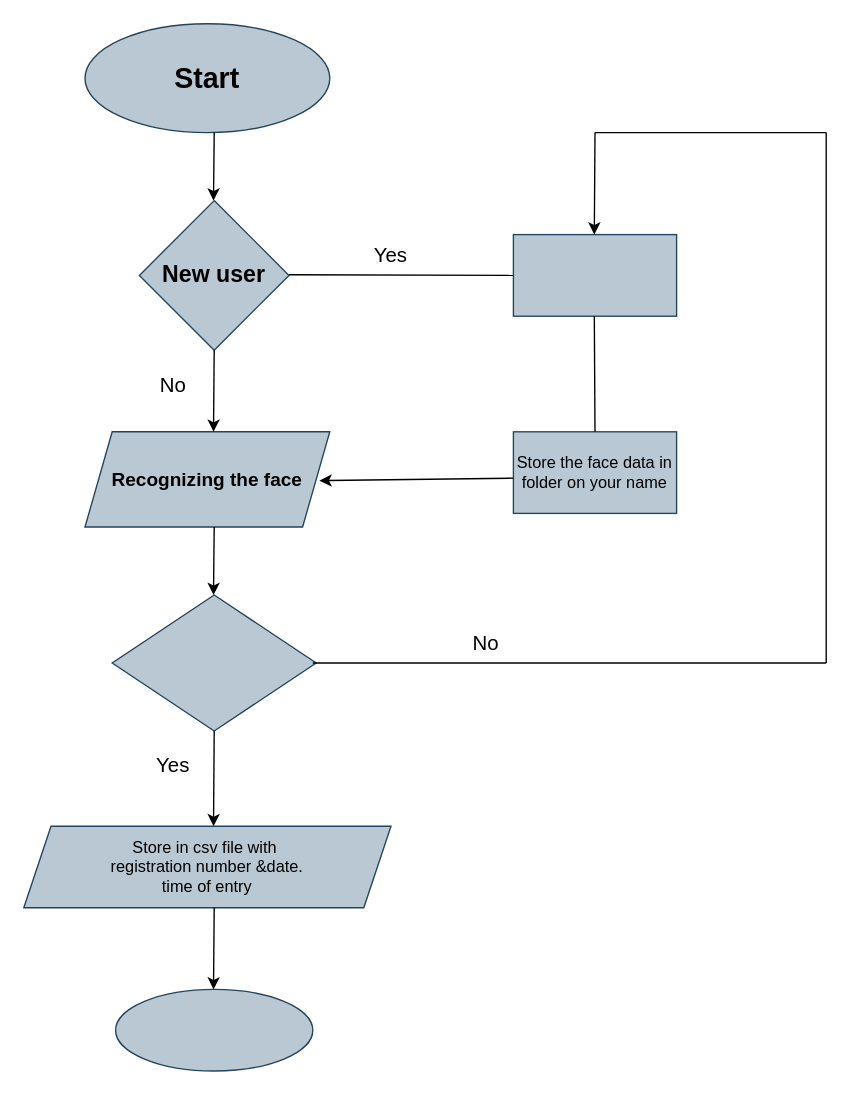
Some shapes in this 851 by 1095 pixel diagram are drawn without their labels. Here are the shapes that lost their labels. From the top down, the centre of each, then its label:
At point (594, 274): "Give your photograph".
At point (213, 662): "Face Recognition".
At point (213, 1029): "End".
